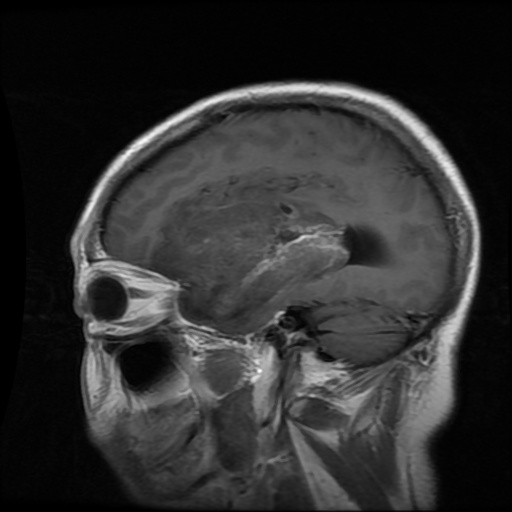glioma: (154, 168, 349, 329)
